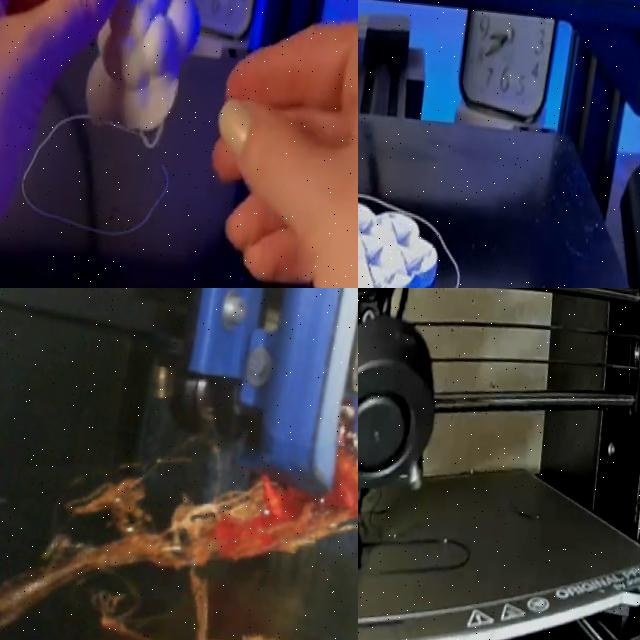spaghetti: (0, 401, 358, 640), (0, 431, 358, 628)
